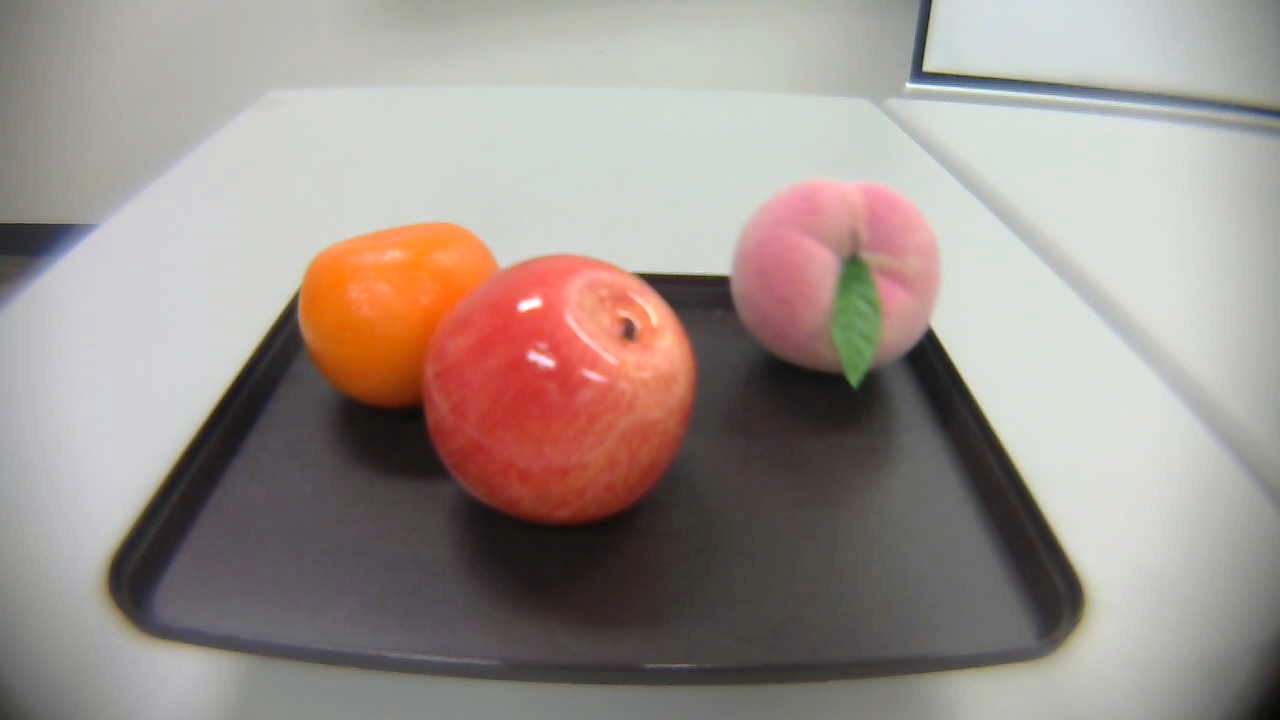orange: (289, 222, 509, 419)
peach: (730, 176, 949, 390)
red apple: (423, 243, 694, 543)
